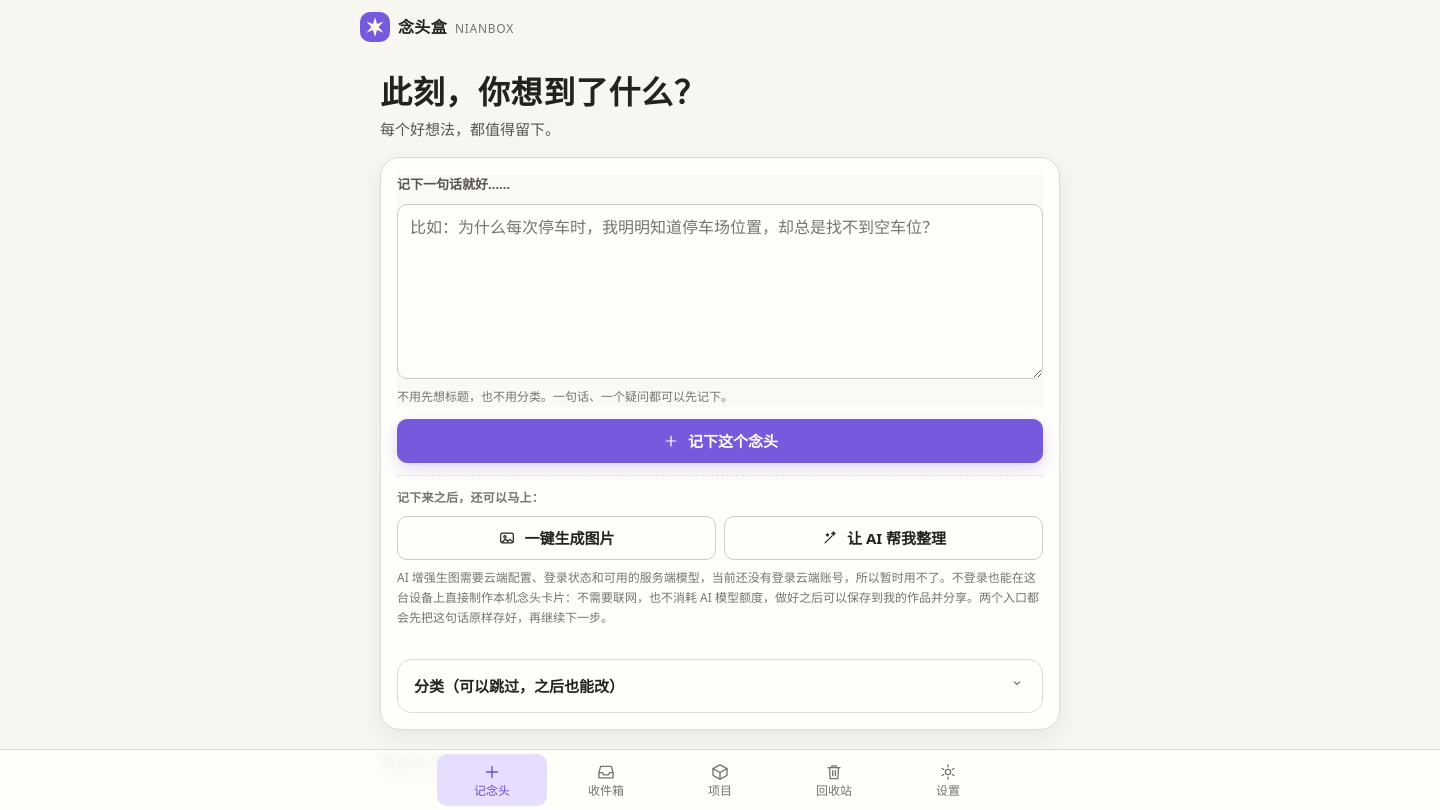
Test: 首次使用：保存成功之后的下一步 › 保存成功后面板给出下一步，生图按钮的可点状态与云端真实状态一致
Step 1. Type "想做一个地铁换乘最短路径的小工具" into the text box labelled "记下一句话就好……" → (720, 292), box [397, 204, 1043, 379]
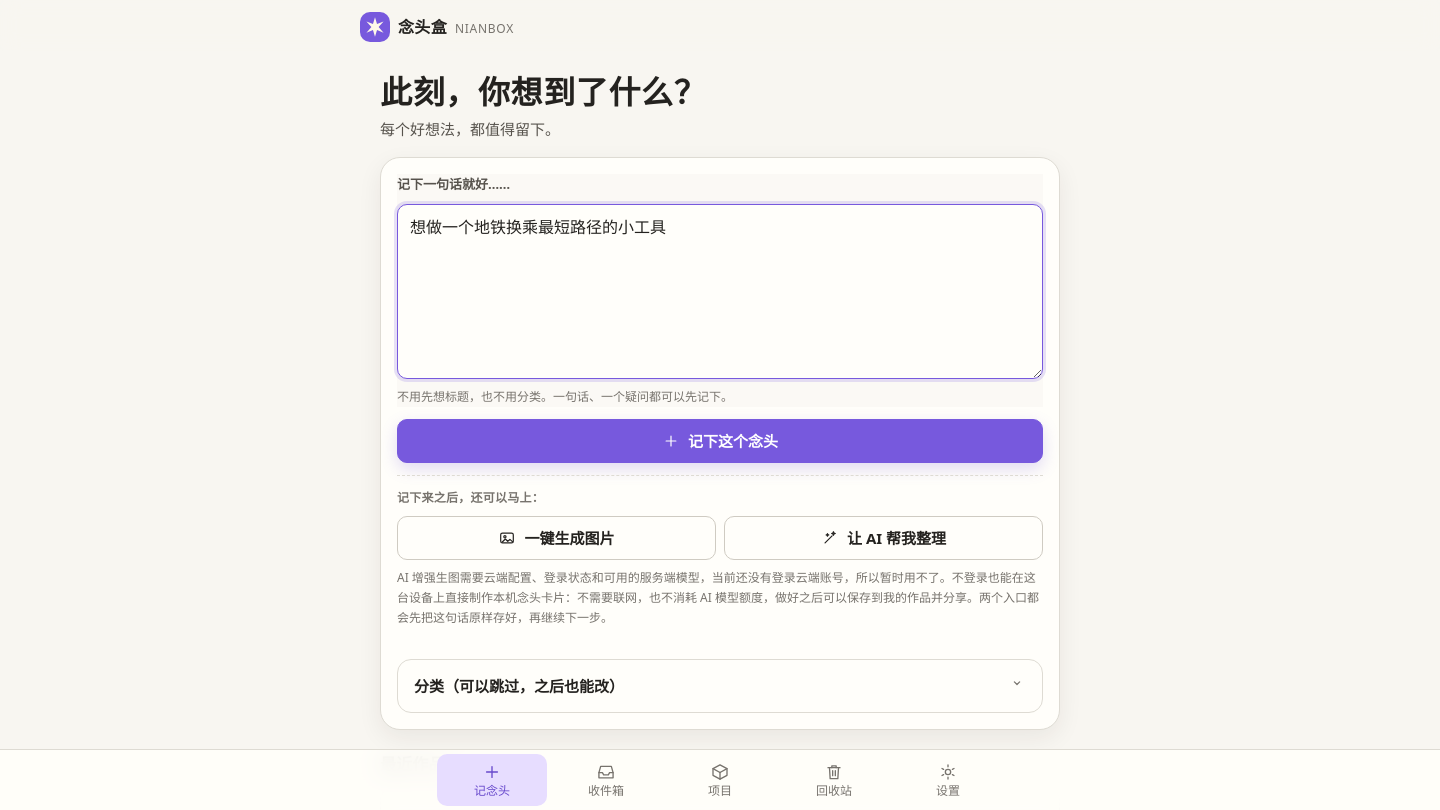
Step 2. Click the button "记下这个念头" → (720, 441), box [397, 419, 1043, 463]
(page scrolled)
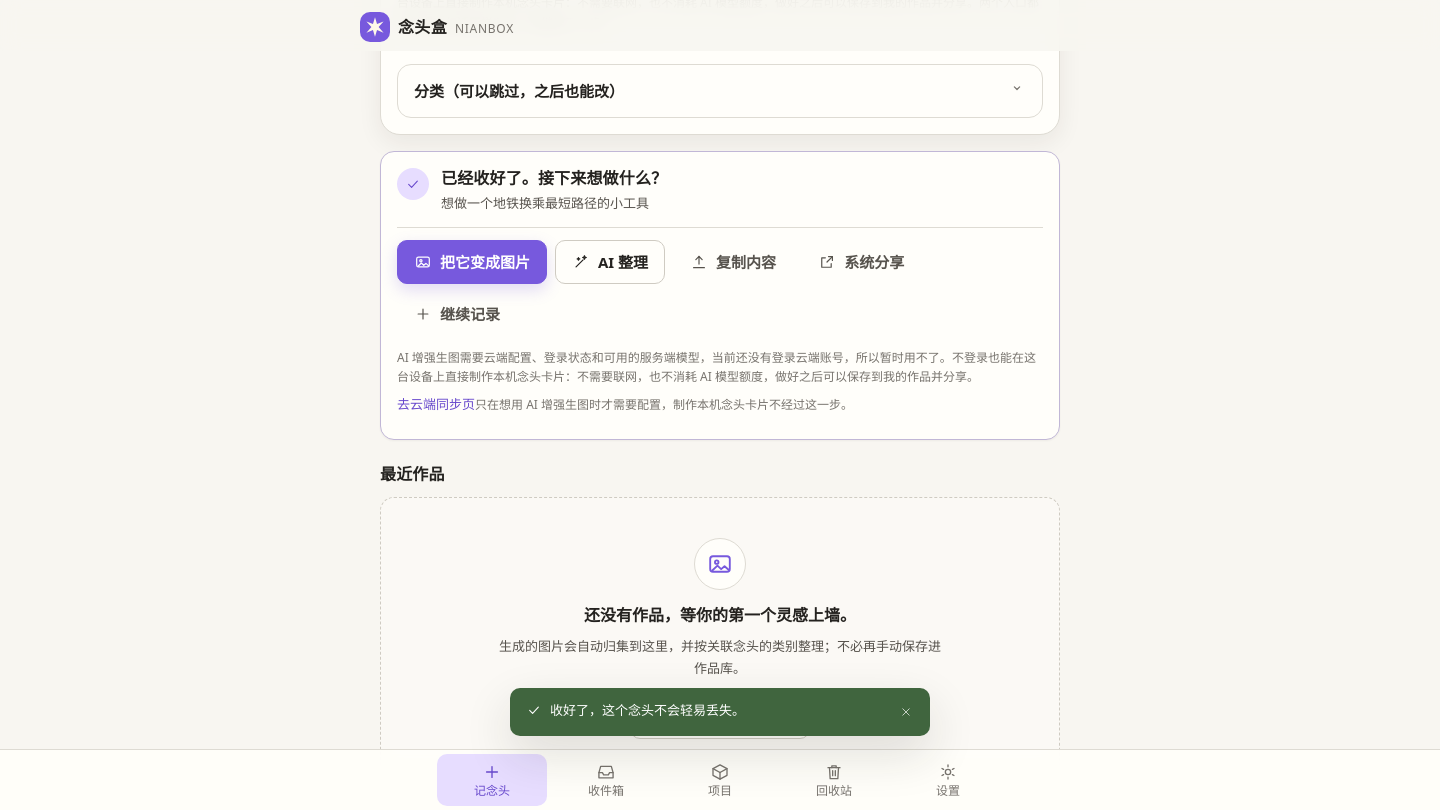
Check: the text "想做一个地铁换乘最短路径的小工具" is shown, box [441, 193, 667, 214]
Check: the button "AI 整理" is shown, box [555, 240, 665, 284]
Check: the button "复制内容" is shown, box [673, 240, 793, 284]
